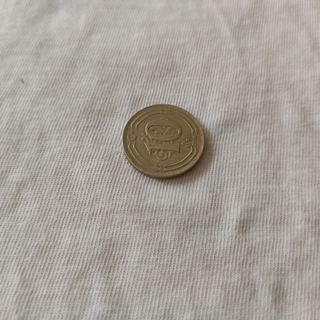10KURUS: (121, 101, 207, 181)
